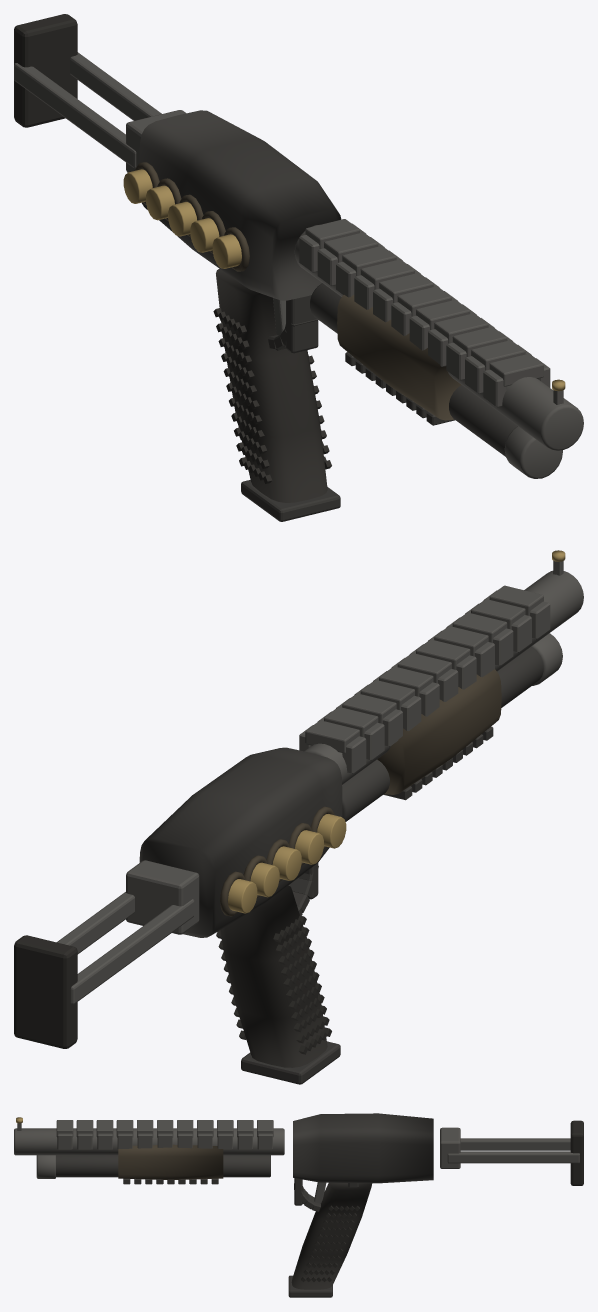
The model's file is weapon_shotgun_short_stock_v1.glb.
The picture shows the model from 3 angles, top to bottom: view 1: azimuth 30°, elevation 25°; view 2: azimuth 150°, elevation 25°; view 3: azimuth 270°, elevation 25°; orthographic projection. The views are drawn at different scales.
Visible parts, largest first — view 1: shotgun_short_stock; view 2: shotgun_short_stock; view 3: shotgun_short_stock.
Boxes of the visible parts, bbox=[...] form: shotgun_short_stock: bbox=[14, 14, 583, 521]; shotgun_short_stock: bbox=[14, 550, 583, 1084]; shotgun_short_stock: bbox=[14, 1113, 583, 1297].
Size of the model in its own units: 0.046 by 0.1369 by 0.4128.
